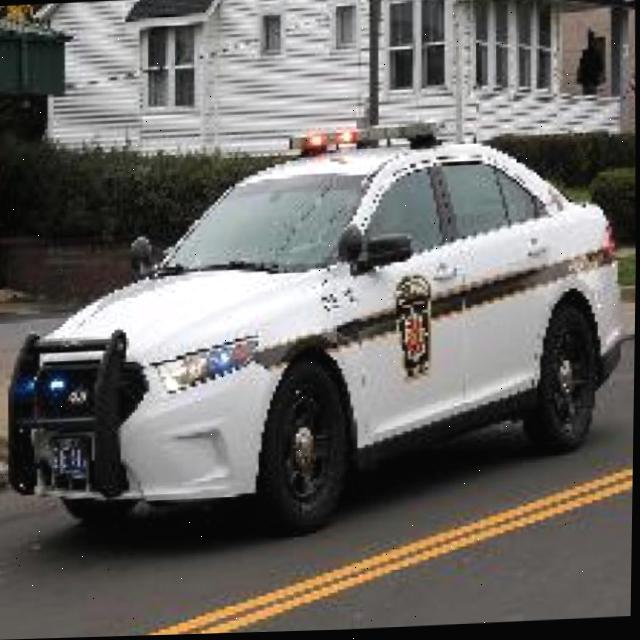emergency: (0, 111, 632, 548)
